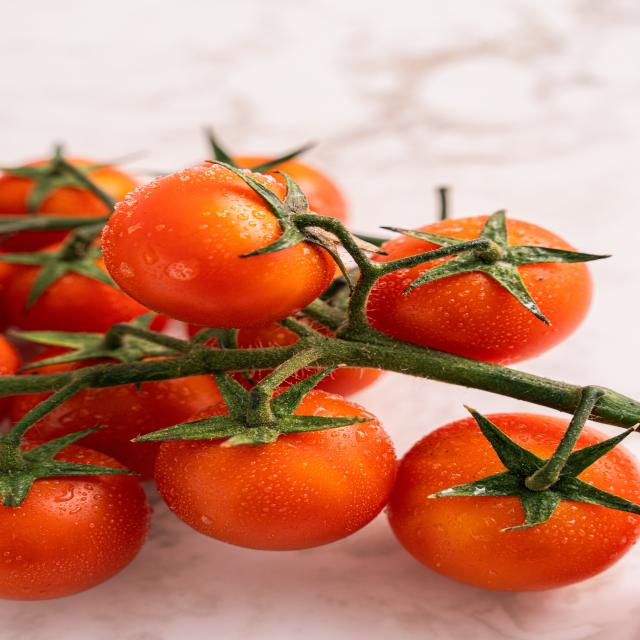Tomato: (390, 390, 638, 600), (124, 165, 368, 320), (391, 210, 603, 364)
